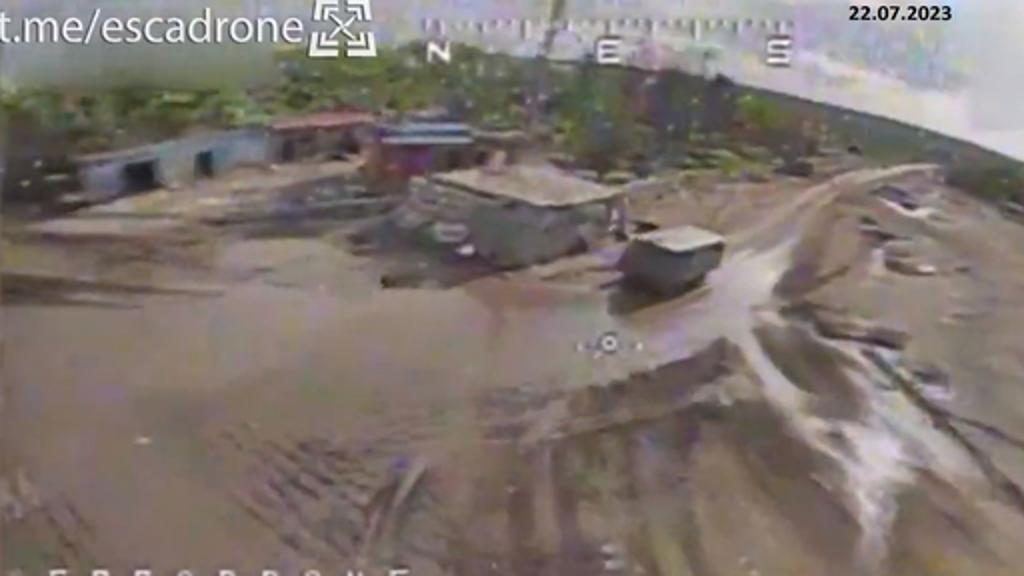CAR: (614, 214, 730, 294)
